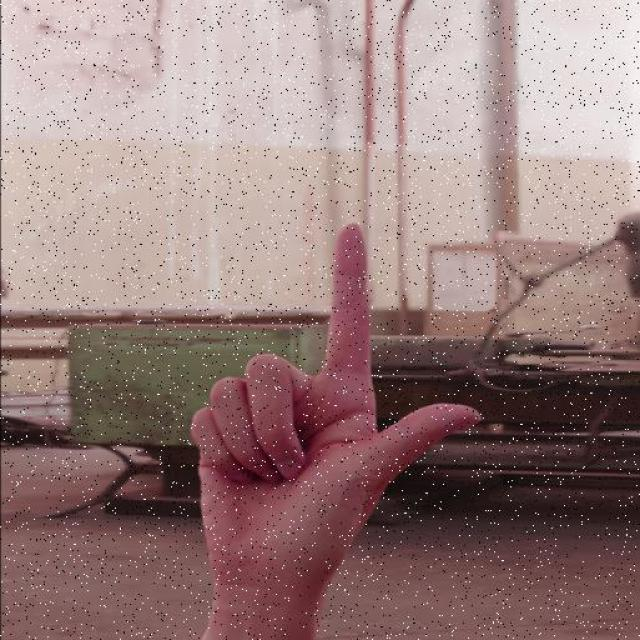L: (170, 194, 492, 596)
